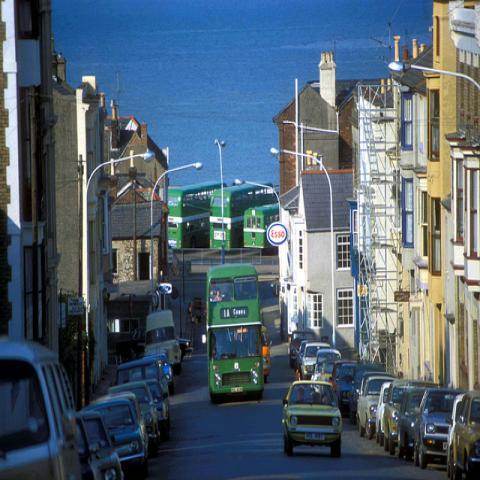bus: (207, 261, 263, 404), (208, 182, 278, 252), (168, 179, 223, 249), (245, 204, 279, 255)
car: (91, 382, 462, 469), (114, 324, 358, 394), (0, 335, 102, 479), (81, 398, 148, 478), (282, 378, 343, 456), (382, 379, 439, 455), (412, 390, 459, 464), (79, 411, 124, 480), (356, 373, 397, 440), (449, 390, 479, 479), (396, 384, 423, 462), (144, 377, 170, 442), (336, 364, 357, 414), (300, 343, 330, 378)
truck: (144, 310, 183, 374)
